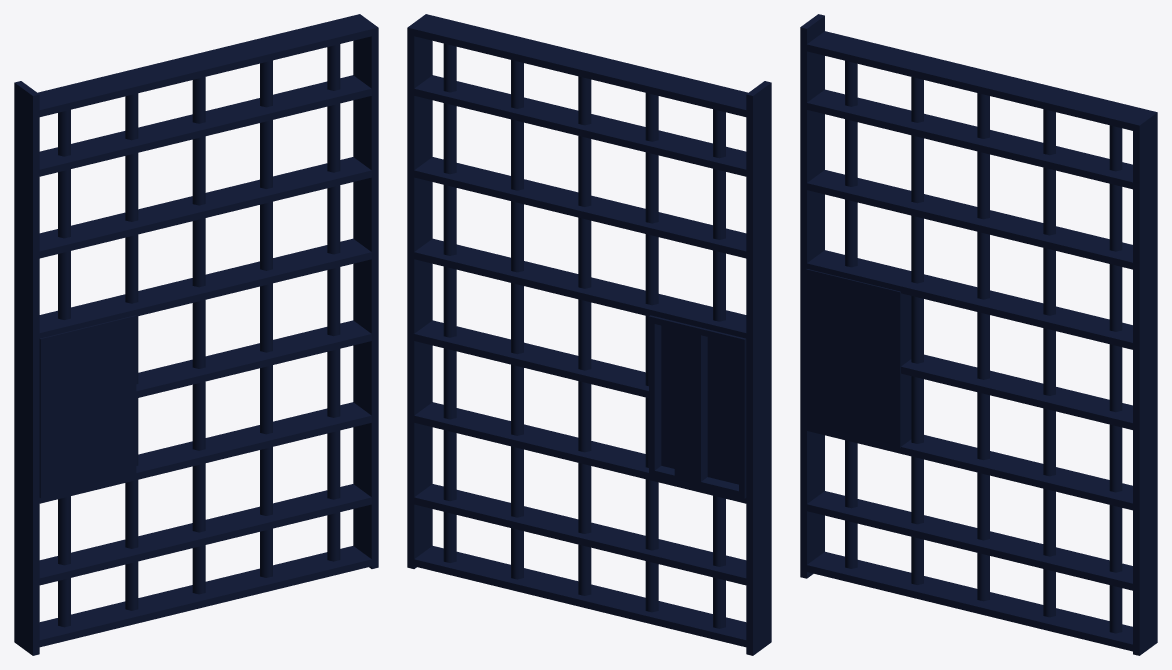
Rendered from jaildoor.fbx.
3 renders of one model, left to right at view 1: azimuth 30°, elevation 25°; view 2: azimuth 150°, elevation 25°; view 3: azimuth 330°, elevation 25°, orthographic.
Parts seen in each view (by area): view 1: jail_door_top; view 2: jail_door_top; view 3: jail_door_top.
Part boxes in pixels (bbox=[...]): jail_door_top: bbox=[14, 14, 378, 655]; jail_door_top: bbox=[407, 14, 771, 655]; jail_door_top: bbox=[800, 14, 1157, 655].
Size of the model in its own units: 157 by 243 by 16.37.
